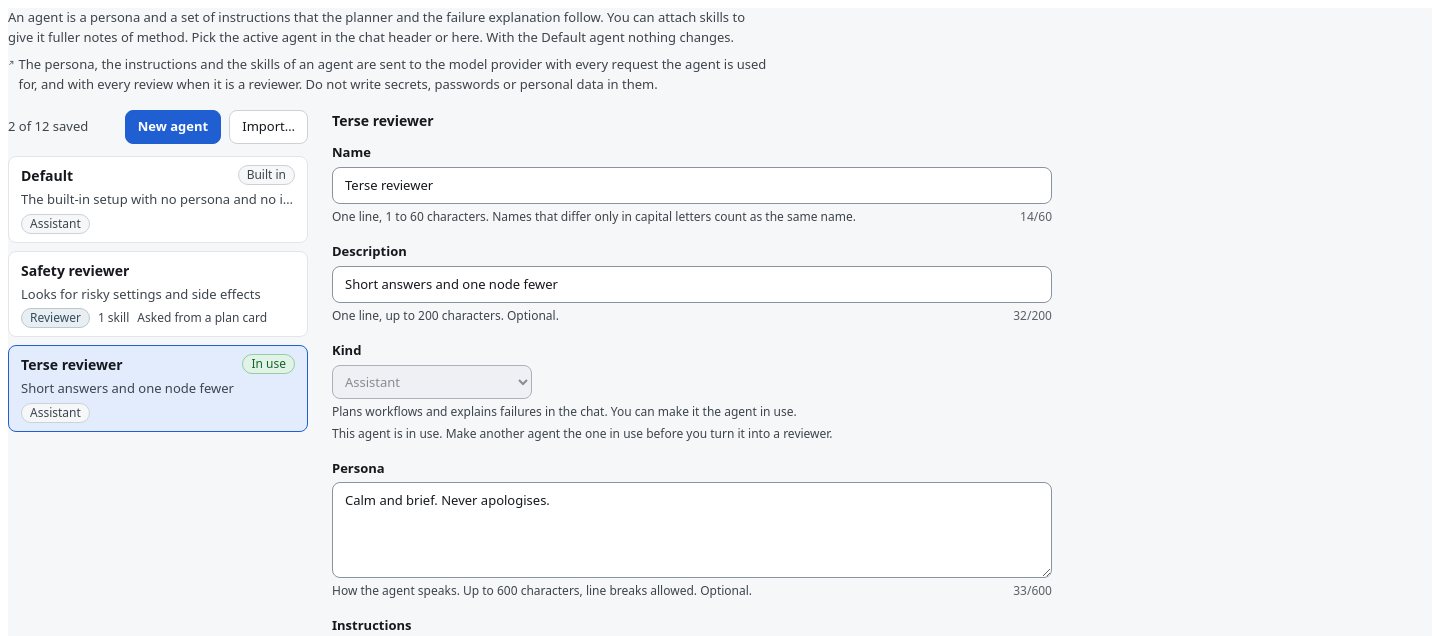
Test: the kind of an agent in the editor › shows the kind as a select with the hint of the chosen kind
The image size is (1440, 636).
Expected: the list named "Agent list" is shown, [8,156,308,432]
Expected: the dropdown labelled "Kind" shows "Assistant", [332,364,532,398]
Click the button "Safety reviewer".
click(158, 294)  # box [8,250,308,337]
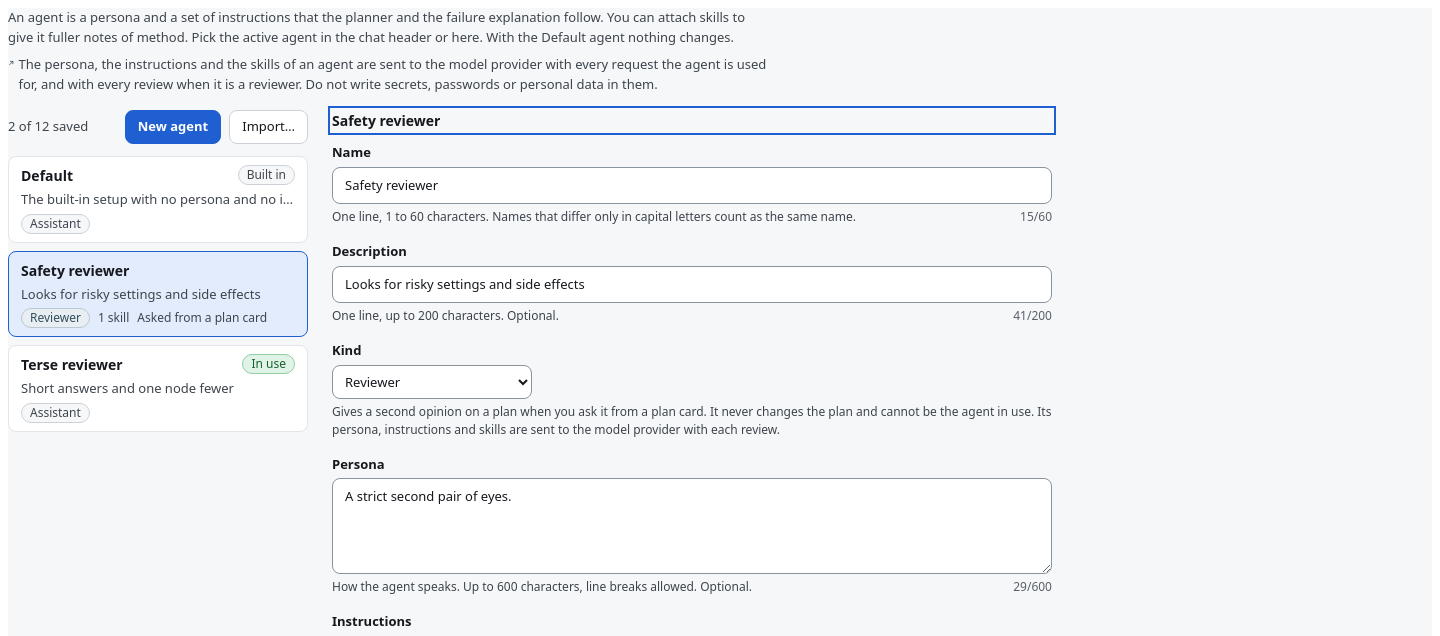
Expected: the heading "Safety reviewer" is shown, [332,111,440,130]
Now the dropdown labelled "Kind" shows "Reviewer", box [332,364,532,398]
Now the text "Gives a second opinion on a plan when you ask it from a plan card. It never changes the plan and cannot be the agent in " is shown, box [332,402,1051,438]
